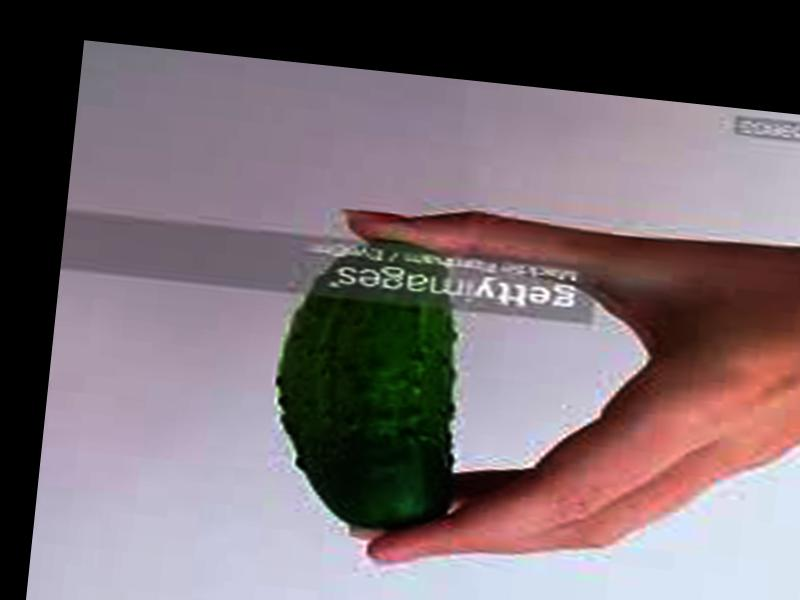Cucumber: (262, 229, 474, 536)
